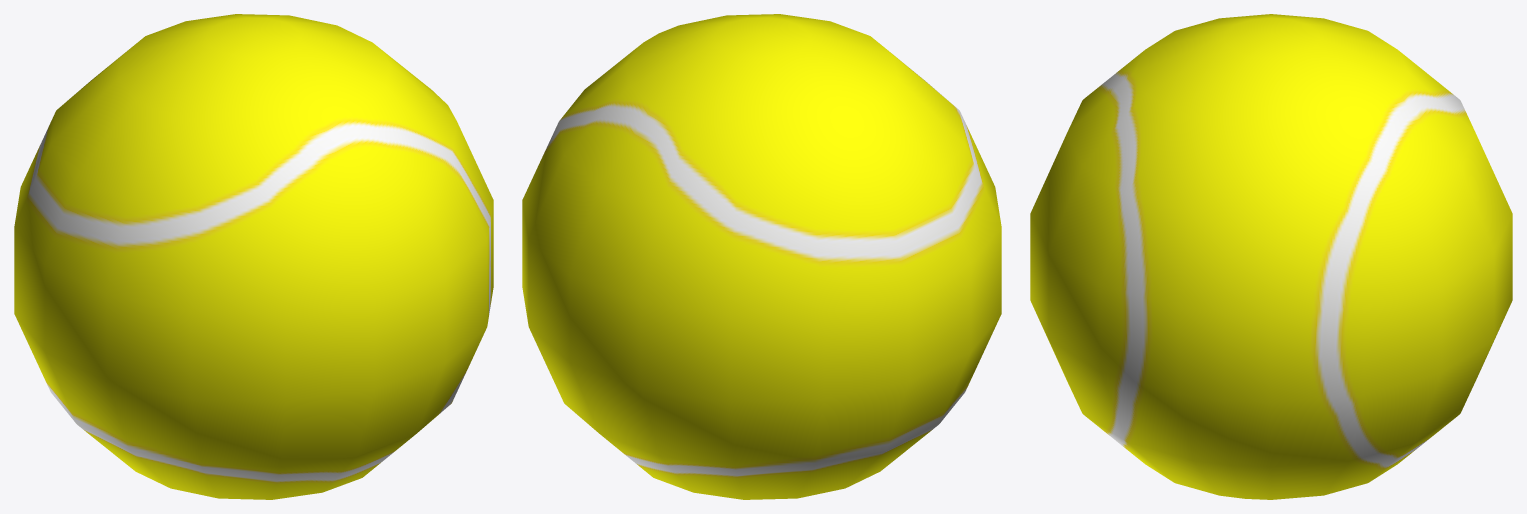
Rendered from Tenisball.fbx.
3 renders of one model, left to right at view 1: azimuth 30°, elevation 25°; view 2: azimuth 150°, elevation 25°; view 3: azimuth 270°, elevation 25°, orthographic.
Parts seen in each view (by area): view 1: Tennis; view 2: Tennis; view 3: Tennis.
Boxes of the visible parts, bbox=[...] form: Tennis: bbox=[14, 14, 493, 499]; Tennis: bbox=[522, 14, 1001, 499]; Tennis: bbox=[1030, 14, 1512, 499].
Bounding box in the file's own units: 17.64 × 17.99 × 17.64.
Materials: 1 (1 with a texture image).
